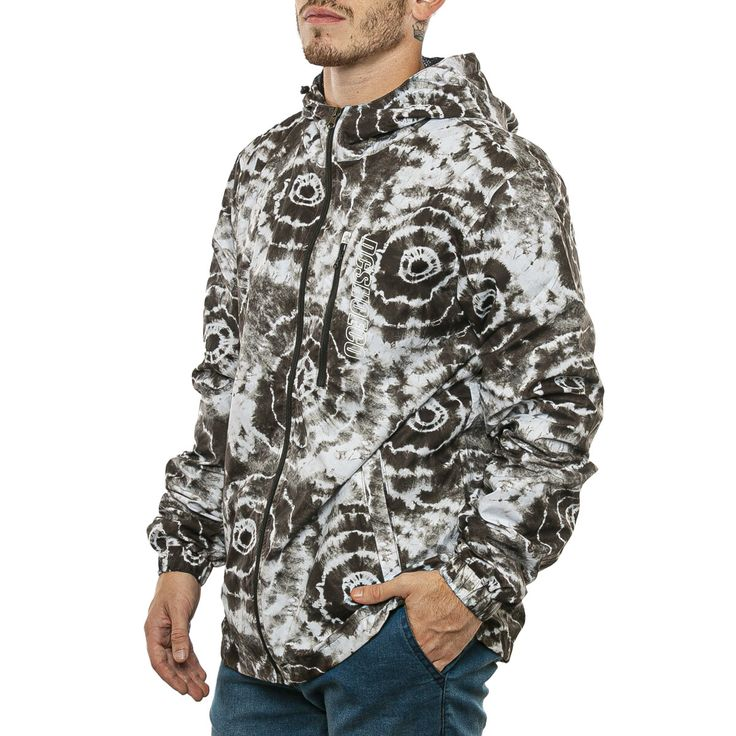nylon: (152, 50, 604, 687)
